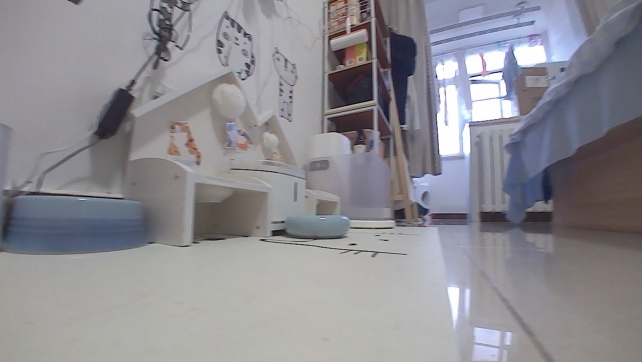bed1: (501, 0, 641, 231)
wire: (129, 0, 196, 88), (10, 130, 100, 194)
